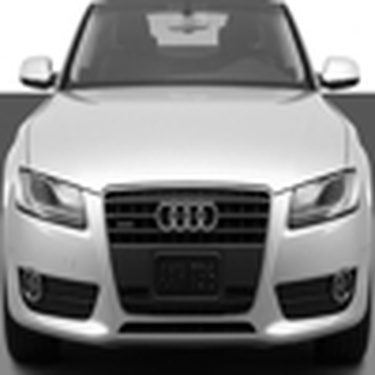car: (15, 4, 369, 348)
